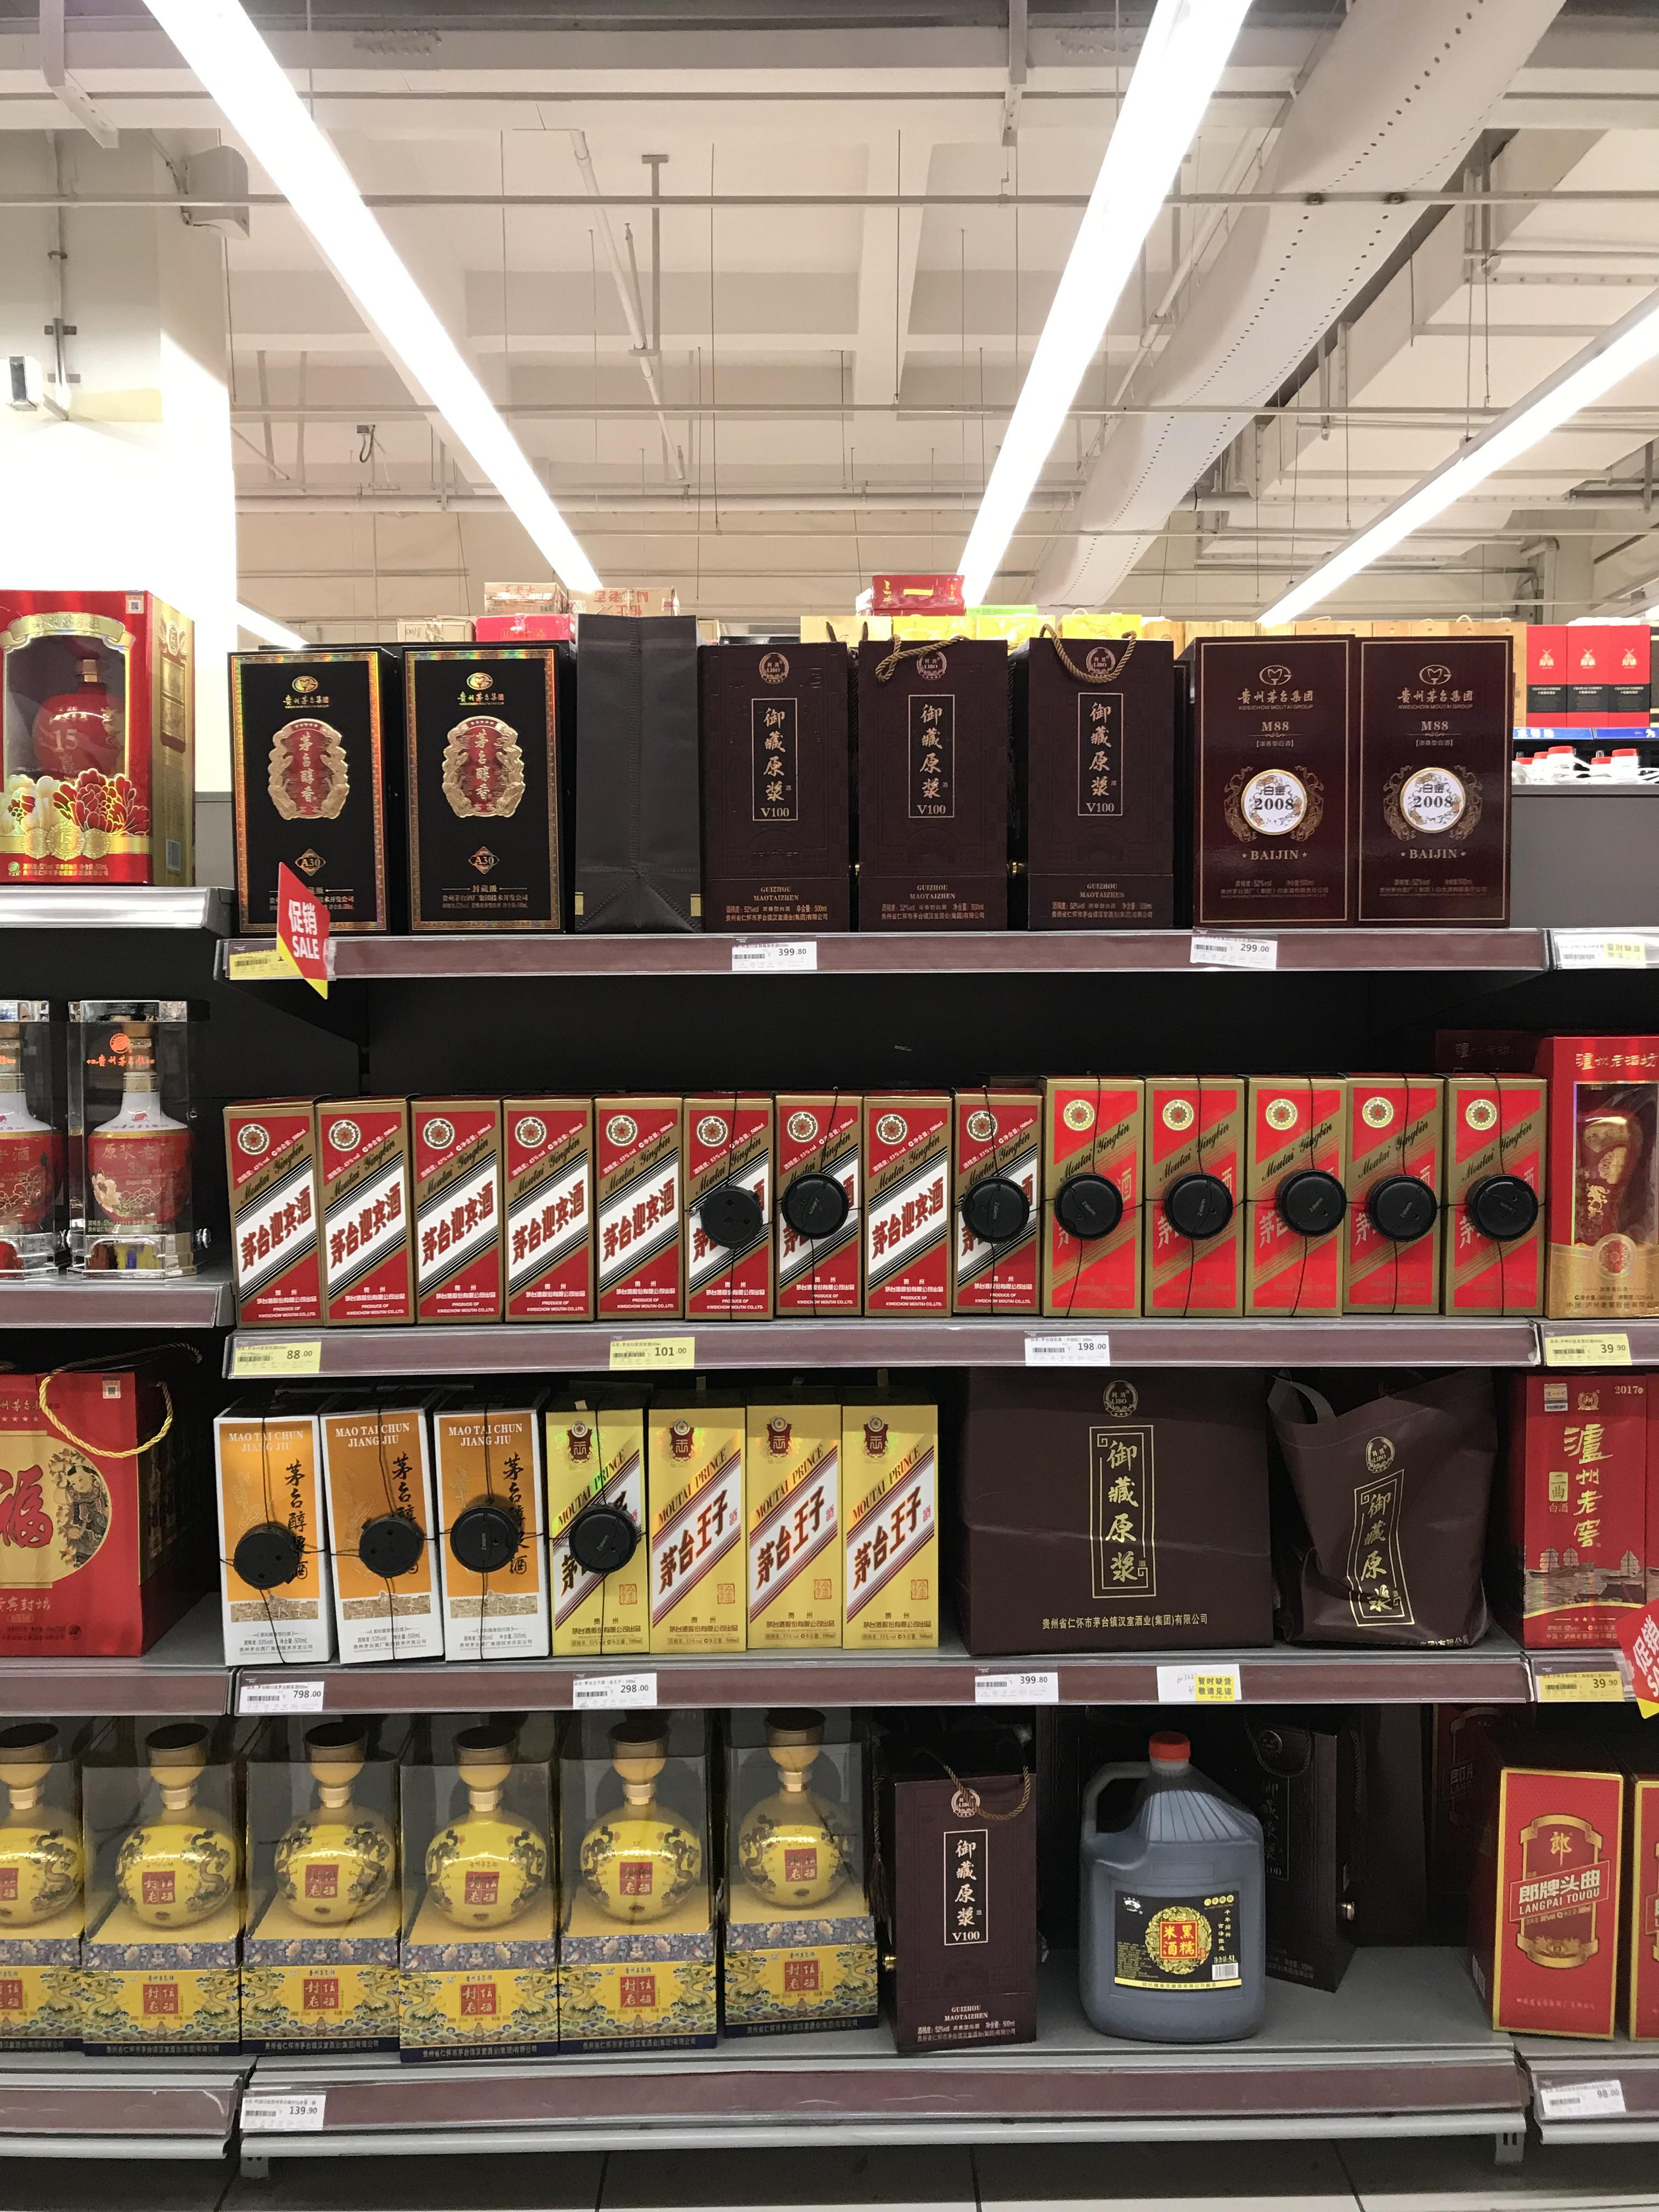bag: (87, 1730, 237, 2054), (554, 1712, 708, 2027), (254, 1740, 396, 2045), (730, 1730, 868, 2022), (0, 1737, 80, 2050), (228, 1103, 336, 1320), (957, 1097, 1037, 1320)
bottle: (849, 587, 1002, 927), (1183, 624, 1351, 927), (394, 613, 552, 932), (1032, 592, 1176, 921), (232, 639, 390, 928), (701, 608, 838, 934), (413, 1731, 542, 2047), (94, 1012, 190, 1285)
box: (0, 589, 211, 892), (1466, 1719, 1626, 2041), (882, 1747, 1032, 2052), (575, 610, 694, 942), (1528, 1031, 1649, 1327), (429, 1390, 547, 1676), (551, 1386, 674, 1656), (636, 1383, 749, 1655), (831, 1383, 943, 1656), (319, 1390, 429, 1667), (211, 1402, 322, 1669), (1434, 1073, 1546, 1332), (1230, 1075, 1340, 1327), (741, 1385, 843, 1651), (1516, 615, 1654, 794), (1342, 1073, 1438, 1327), (319, 1106, 422, 1325), (415, 1101, 511, 1322), (505, 1096, 598, 1320), (596, 1090, 687, 1317), (1155, 1082, 1232, 1320), (1060, 1078, 1133, 1318), (694, 1092, 770, 1317), (866, 1090, 941, 1313)
bucket: (1075, 1731, 1265, 2043), (1288, 1376, 1493, 1642)
jar: (1326, 632, 1504, 923)
others: (967, 1371, 1258, 1660), (0, 1352, 173, 1663), (1495, 1371, 1647, 1649)
